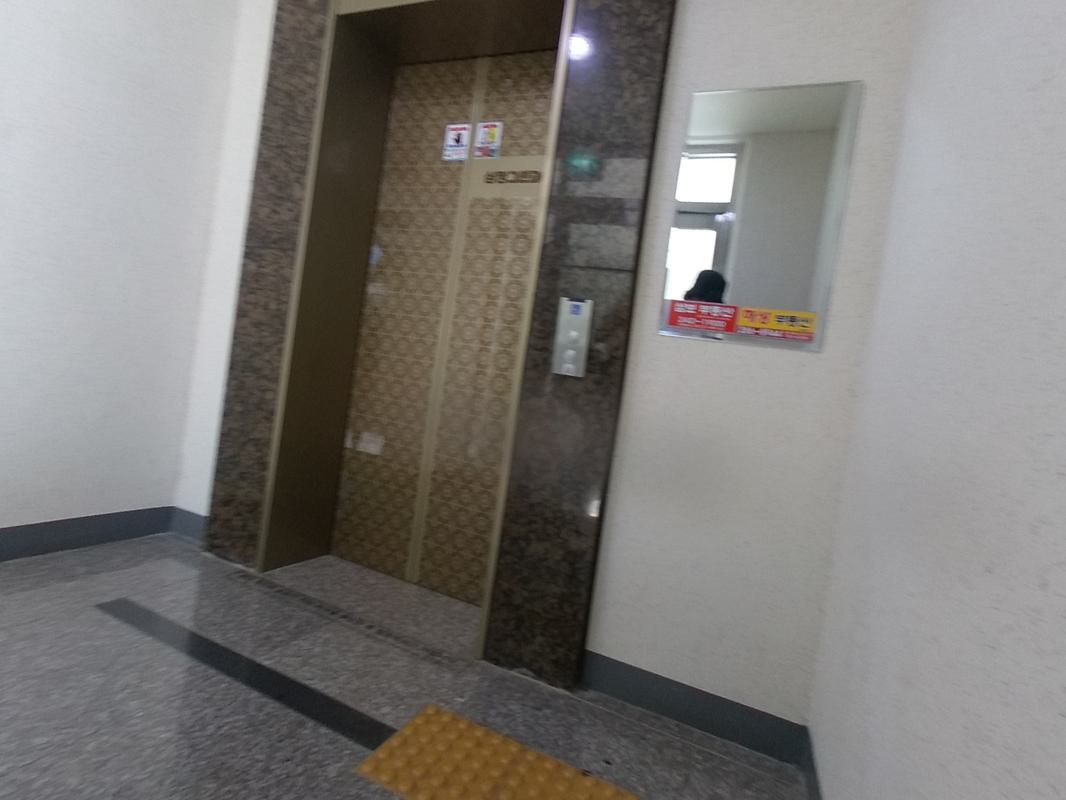automatic door: (548, 294, 594, 379)
building: (4, 2, 1064, 796)
closed door: (327, 39, 556, 606)
door: (327, 49, 556, 606)
elevator: (656, 77, 863, 352)
elevator button: (548, 274, 594, 379), (548, 284, 594, 379)
person: (682, 268, 726, 303)
stairs: (3, 526, 815, 797)
turnstile: (357, 703, 637, 796)
